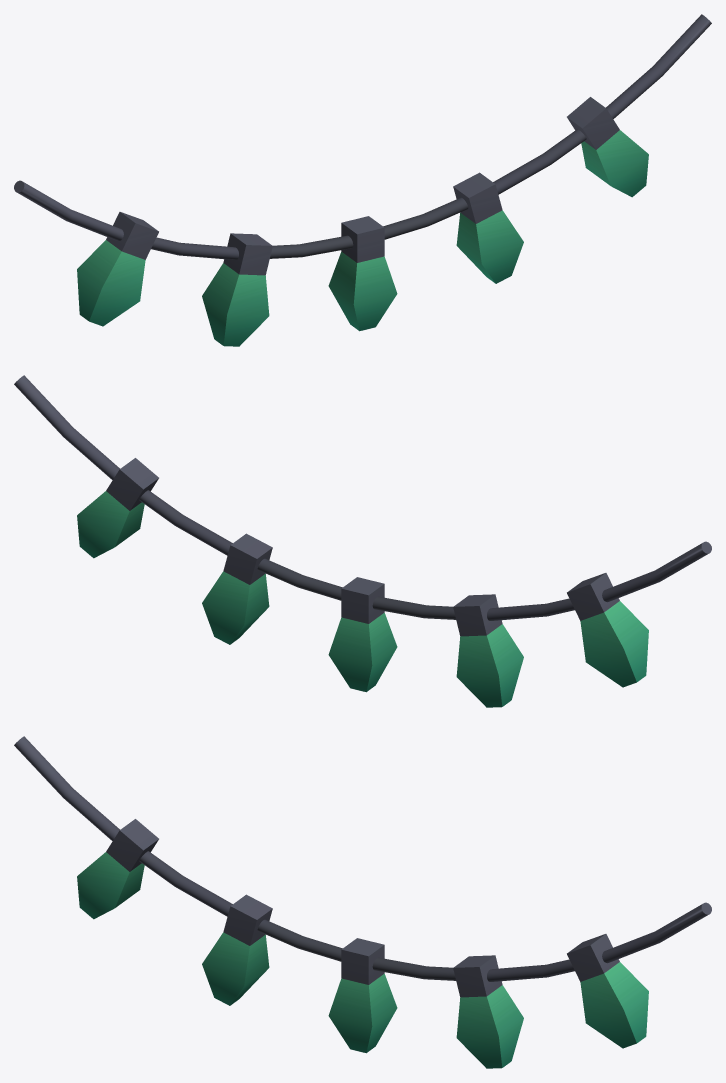
File: kenney-holiday-lights-green.glb
The picture shows the model from 3 angles, top to bottom: view 1: azimuth 30°, elevation 25°; view 2: azimuth 150°, elevation 25°; view 3: azimuth 330°, elevation 25°; orthographic projection.
Parts seen in each view (by area): view 1: lights-green; view 2: lights-green; view 3: lights-green.
Part boxes in pixels (<box>): lights-green: <box>14,14,711,346</box>; lights-green: <box>14,375,711,707</box>; lights-green: <box>14,736,711,1068</box>.
Bounding box in the file's own units: 1.01 × 0.3162 × 0.0636.
1 material, 1 textured.
